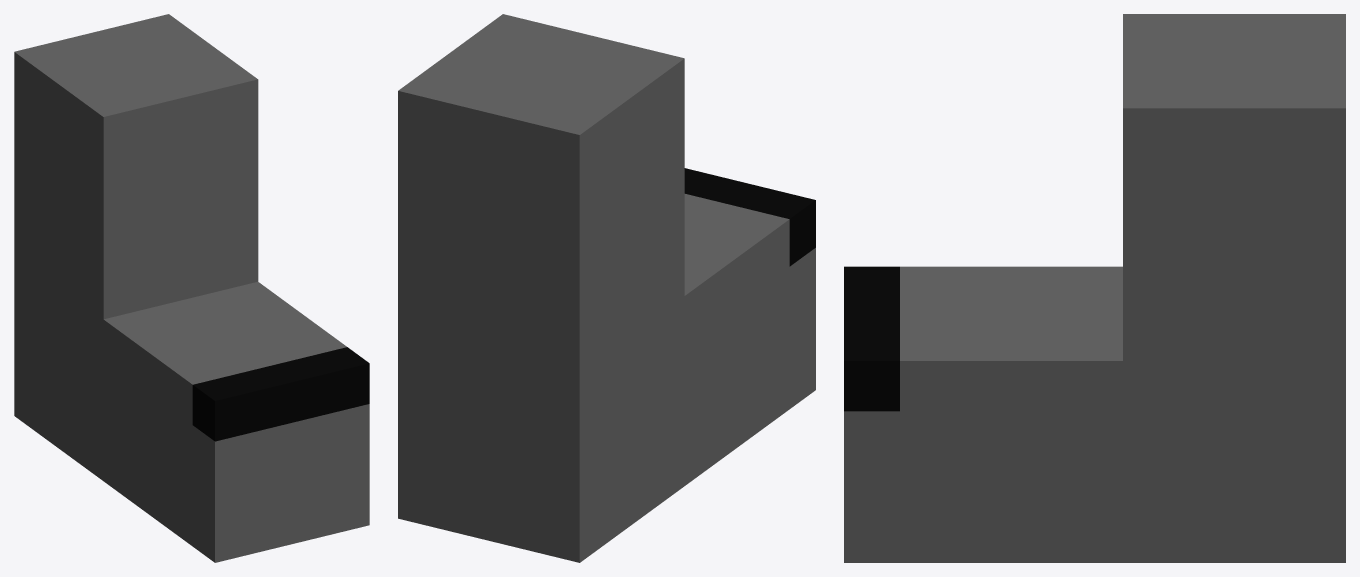
The model's file is MouseFull-0.obj.
3 views of the same model, side by side, from view 1: azimuth 30°, elevation 25°; view 2: azimuth 150°, elevation 25°; view 3: azimuth 270°, elevation 25° (orthographic). The views are drawn at different scales.
Bounding box in the file's own units: 0.4 × 0.9 × 0.9.
1 material, 1 textured.
